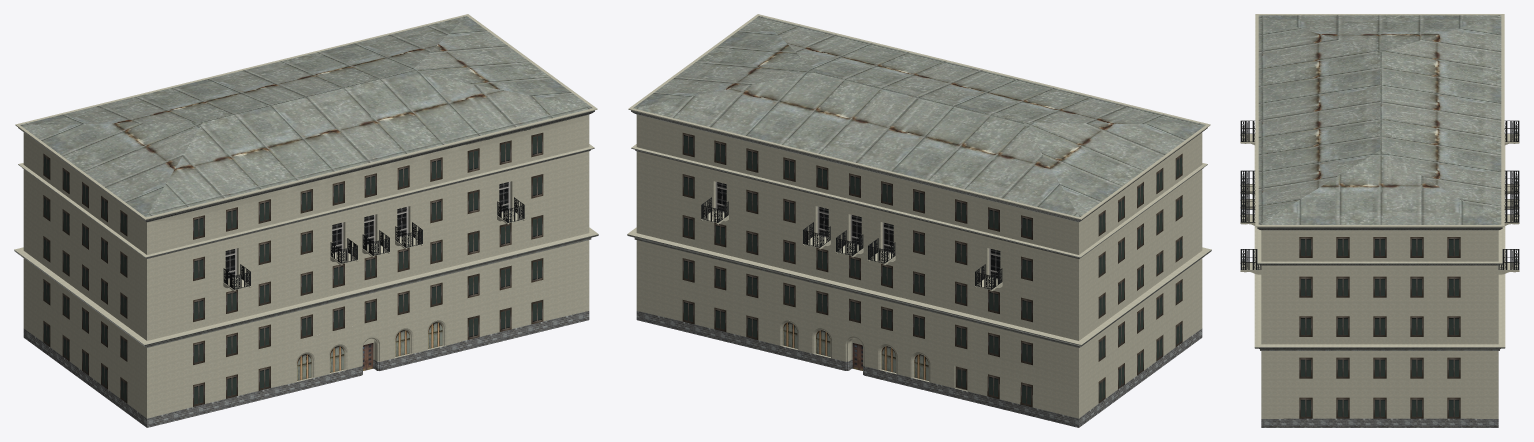
Rendered from stalinka.gltf.
3 renders of one model, left to right at view 1: azimuth 30°, elevation 25°; view 2: azimuth 150°, elevation 25°; view 3: azimuth 270°, elevation 25°, orthographic. The views are drawn at different scales.
Visible parts, largest first — view 1: Body; view 2: Body; view 3: Body.
Boxes of the visible parts, bbox=[...] form: Body: bbox=[14, 14, 598, 427]; Body: bbox=[627, 14, 1211, 427]; Body: bbox=[1240, 14, 1519, 427].
Size of the model in its own units: 1.36 by 0.6603 by 0.7499.
Materials: 13 (13 with a texture image).
